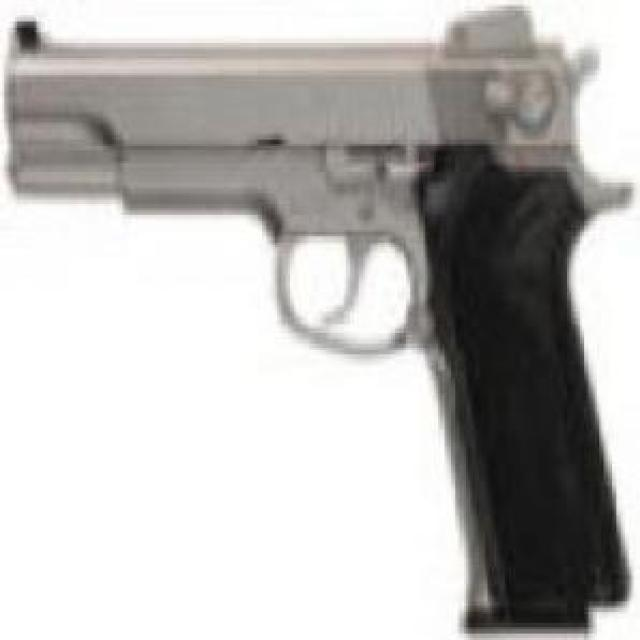pistol: (8, 15, 638, 633)
